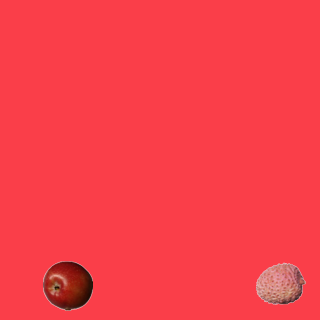Apple Braeburn: (42, 260, 92, 310)
Lychee: (255, 258, 305, 308)
